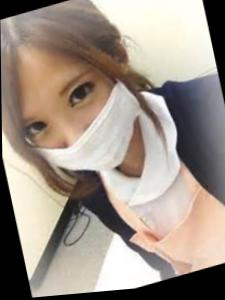WRONG: (7, 52, 143, 197)
